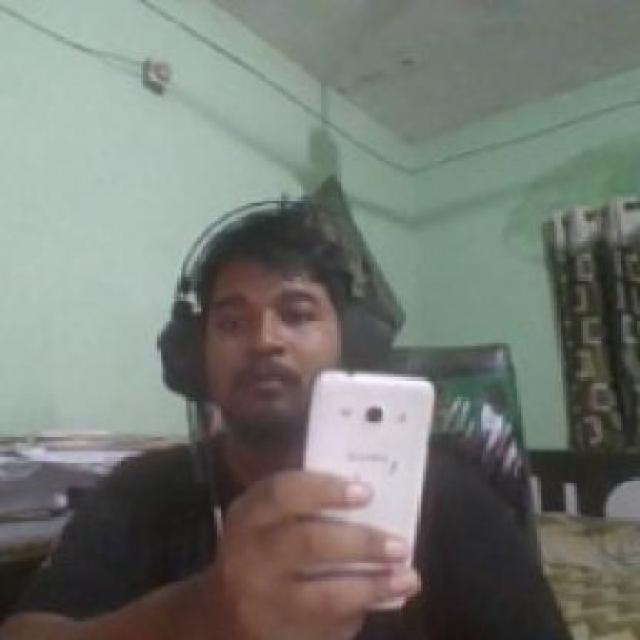Phone: (302, 369, 438, 615)
